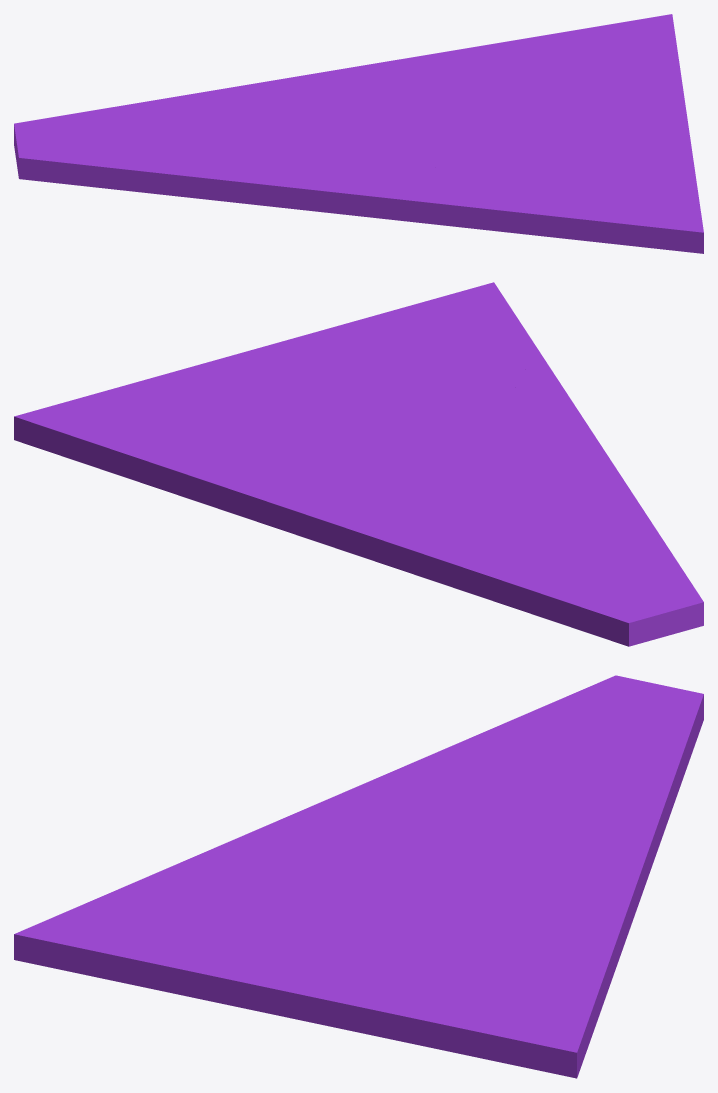
The model's file is StairsStep_25_chunks.fbx.
3 renders of one model, top to bottom at view 1: azimuth 30°, elevation 25°; view 2: azimuth 150°, elevation 25°; view 3: azimuth 270°, elevation 25°, orthographic. The views are drawn at different scales.
Visible parts, largest first — view 1: StairsStep_25_2, StairsStep_25_3, StairsStep_25_1, StairsStep_25_0; view 2: StairsStep_25_2, StairsStep_25_3, StairsStep_25_0, StairsStep_25_1; view 3: StairsStep_25_2, StairsStep_25_3, StairsStep_25_0, StairsStep_25_1.
Part boxes in pixels (box(x1,y1,x2,y2)): StairsStep_25_2: box(353, 14, 703, 253); StairsStep_25_3: box(14, 62, 380, 192); StairsStep_25_1: box(141, 165, 590, 241); StairsStep_25_0: box(135, 128, 428, 189); StairsStep_25_2: box(14, 282, 536, 530); StairsStep_25_3: box(284, 483, 703, 646); StairsStep_25_0: box(450, 431, 667, 547); StairsStep_25_1: box(493, 347, 614, 466); StairsStep_25_2: box(14, 842, 633, 1078); StairsStep_25_3: box(487, 675, 703, 919); StairsStep_25_0: box(348, 719, 513, 853); StairsStep_25_1: box(137, 785, 361, 881).
Bounding box in the file's own units: 563 × 17.94 × 435.
